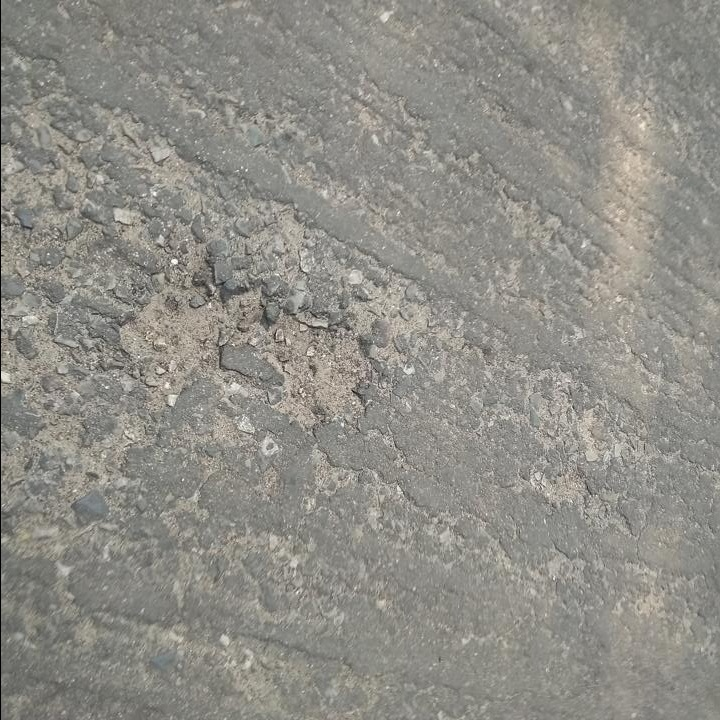pothole: (118, 256, 373, 422)
